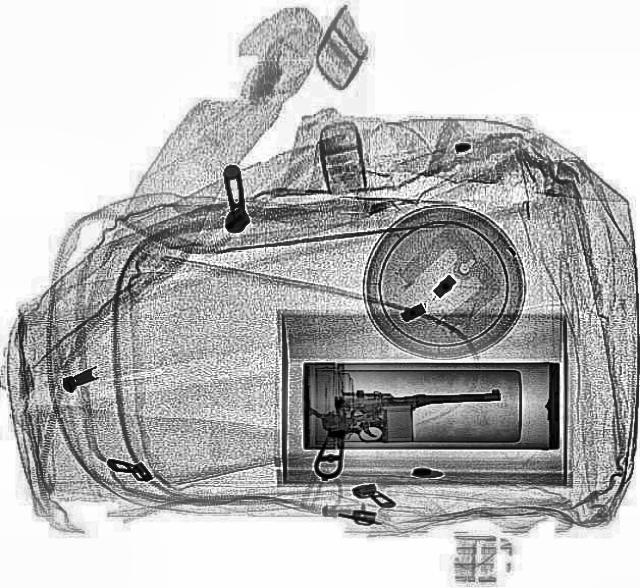Gun: (304, 384, 504, 480)
